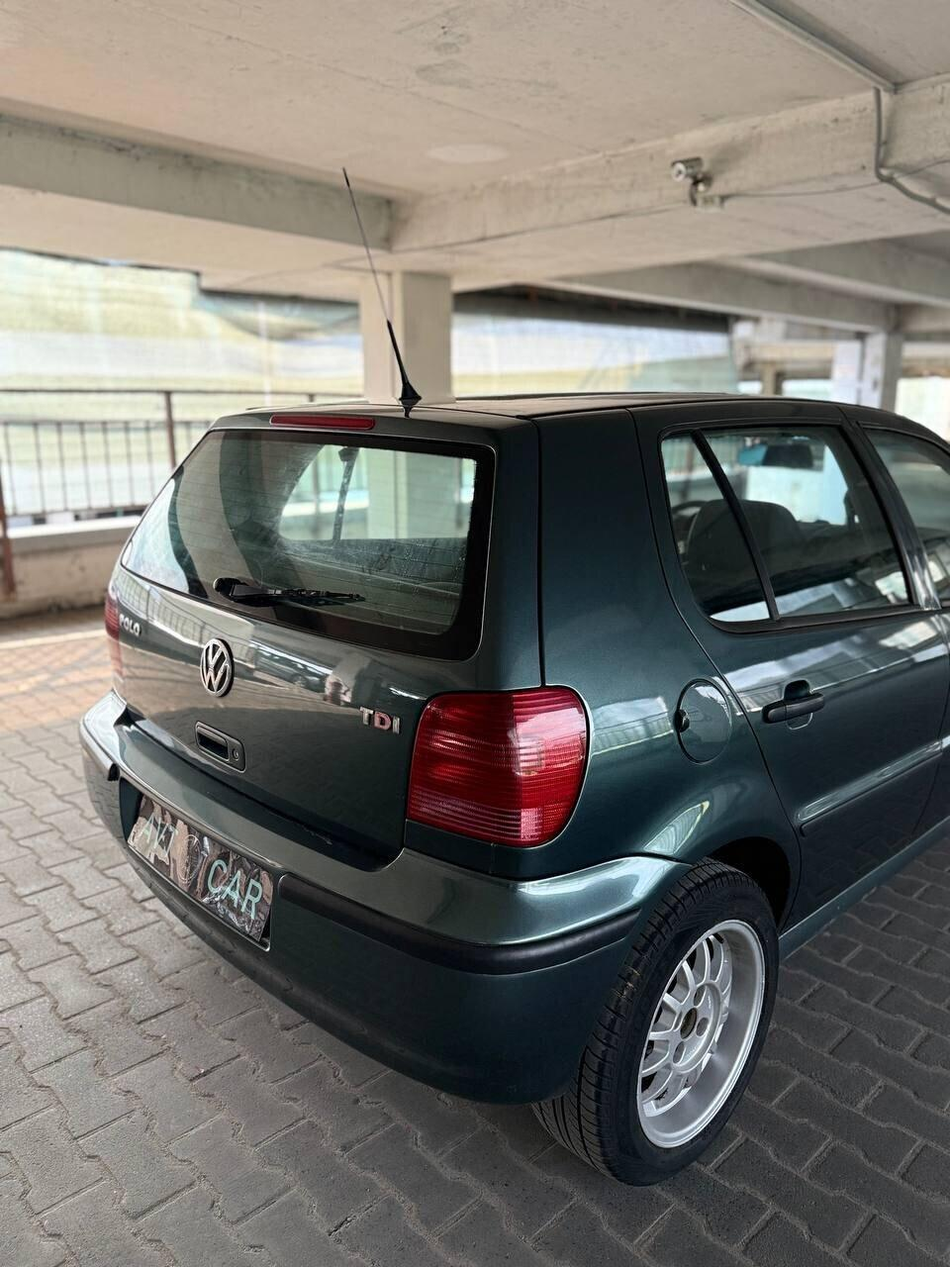Polo_2000-2002: (72, 369, 950, 1132)
